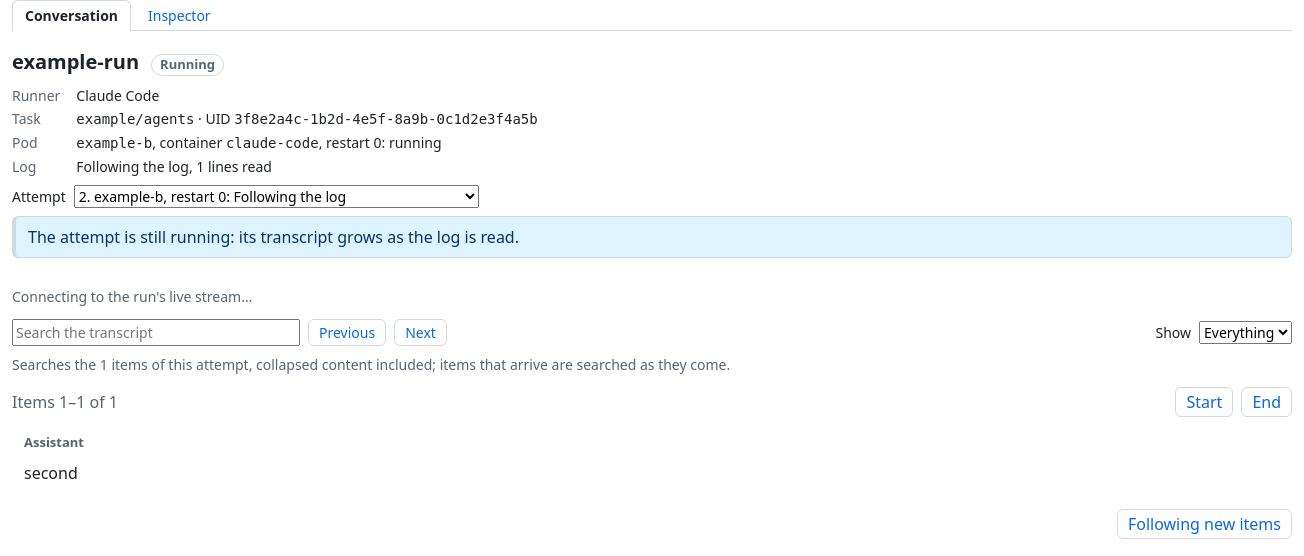
Test: RunPage streaming › keeps the attempt the reader picked while another one streams
Select "1. example-claude-code-x7k2p, restart 0: Following the log" in the dropdown labelled "Attempt" at (276, 196), box [74,185,479,208]
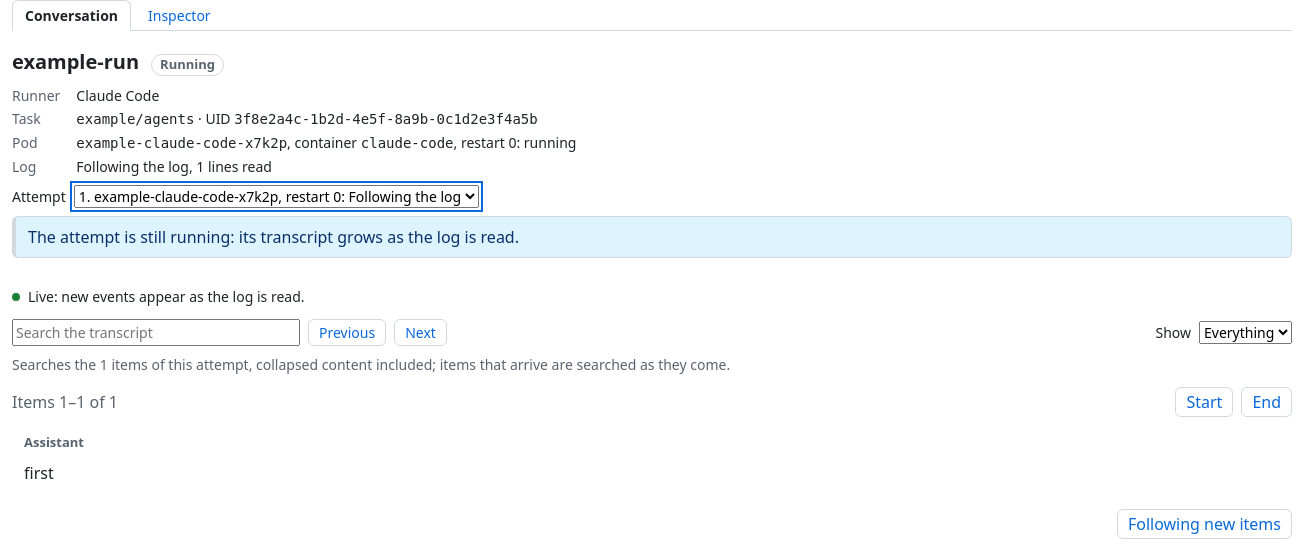
expect the element with class "message" shows "first": met, box [24,462,54,484]
